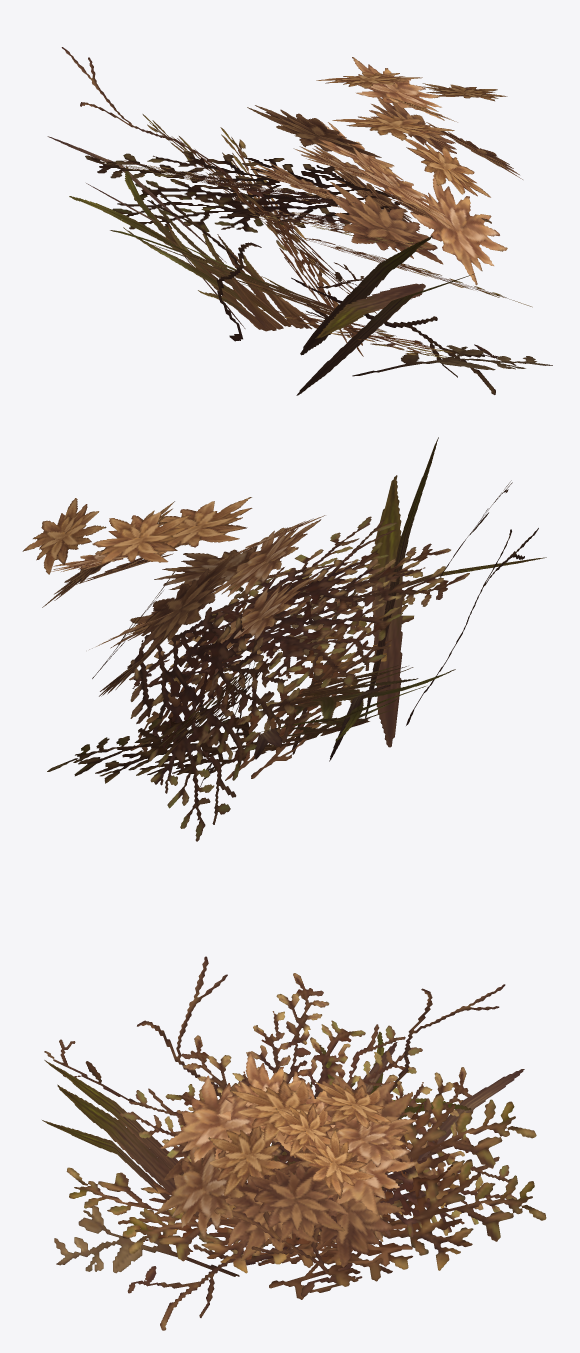
The model's file is xy_plant01.FBX.
3 renders of one model, top to bottom at view 1: azimuth 30°, elevation 25°; view 2: azimuth 150°, elevation 25°; view 3: azimuth 270°, elevation 25°, orthographic. The views are drawn at different scales.
Visible parts, largest first — view 1: xy_plant01; view 2: xy_plant01; view 3: xy_plant01.
Part boxes in pixels (x1,y1,x2,y2): xy_plant01: (47,47,552,395); xy_plant01: (22,437,546,841); xy_plant01: (42,956,546,1330).
Bounding box in the file's own units: 99.59 × 67.41 × 119.
